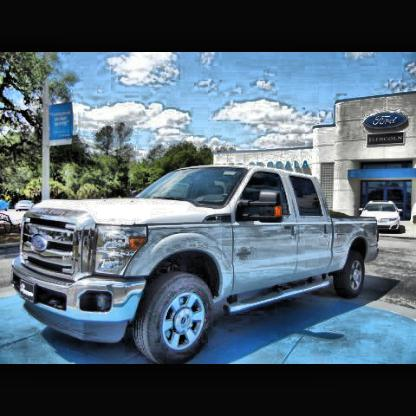Ford F-450 Super Duty Crew Cab 2012: (13, 164, 383, 364)
